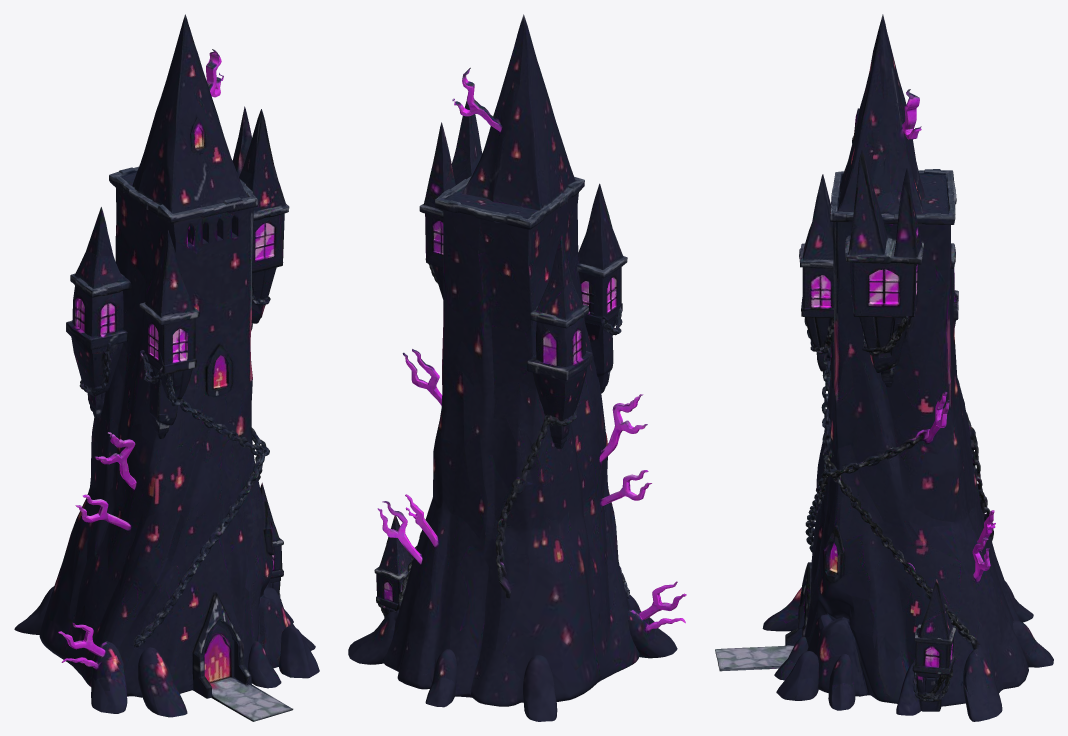
The model's file is citadel.glb.
3 views of the same model, side by side, from view 1: azimuth 30°, elevation 25°; view 2: azimuth 150°, elevation 25°; view 3: azimuth 270°, elevation 25° (orthographic).
Size of the model in its own units: 18.01 by 40 by 19.06.
Materials: 1 (1 with a texture image).
